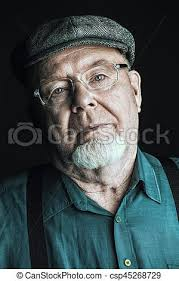Glasses: (28, 59, 130, 103)
